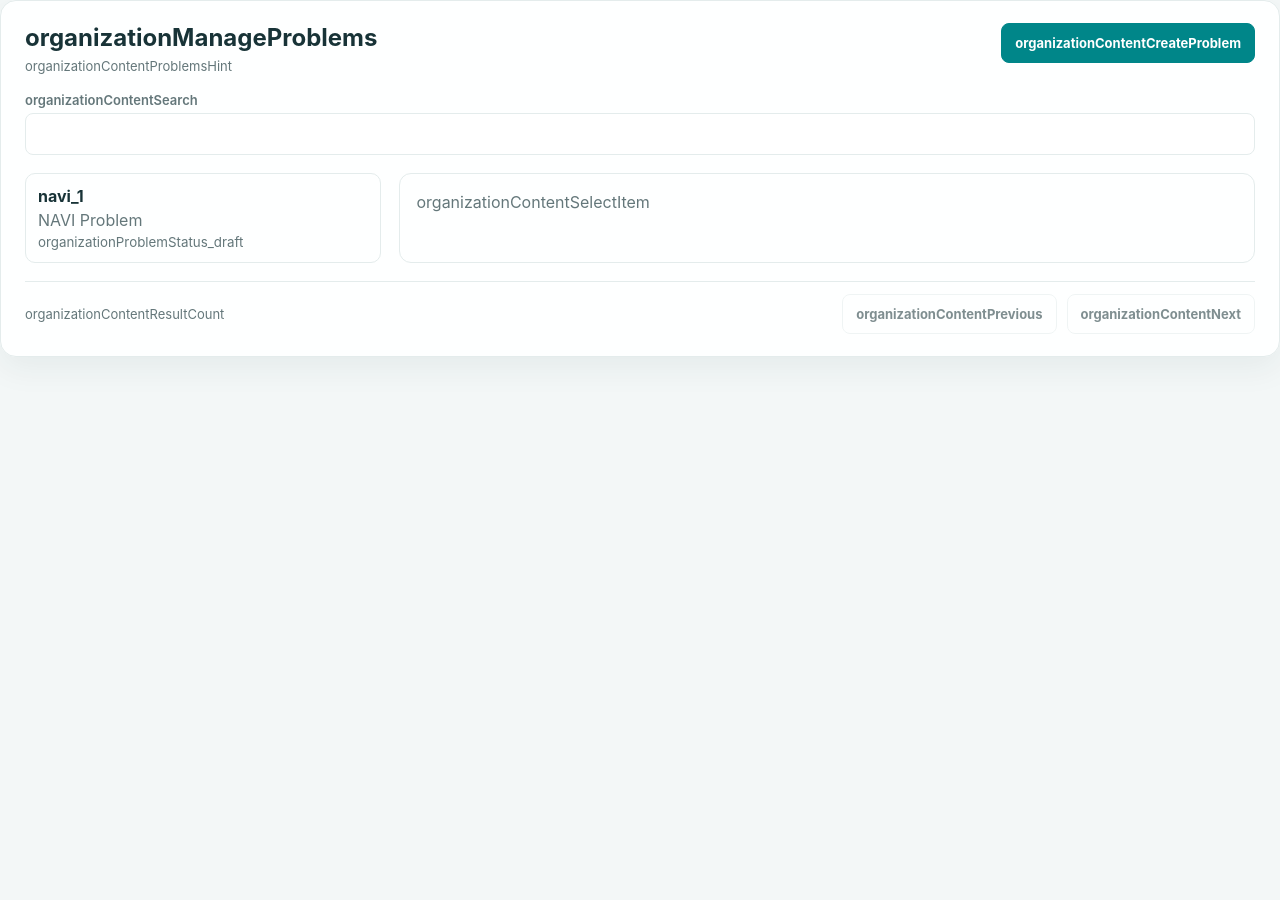
Test: OrganizationContentPanel create interactions › switches between problem detail, edit form, cancel, and create form
Click the button "navi_1 NAVI Problem organizationProblemStatus_draft".
click(61, 196)  # box [25,173,382,263]
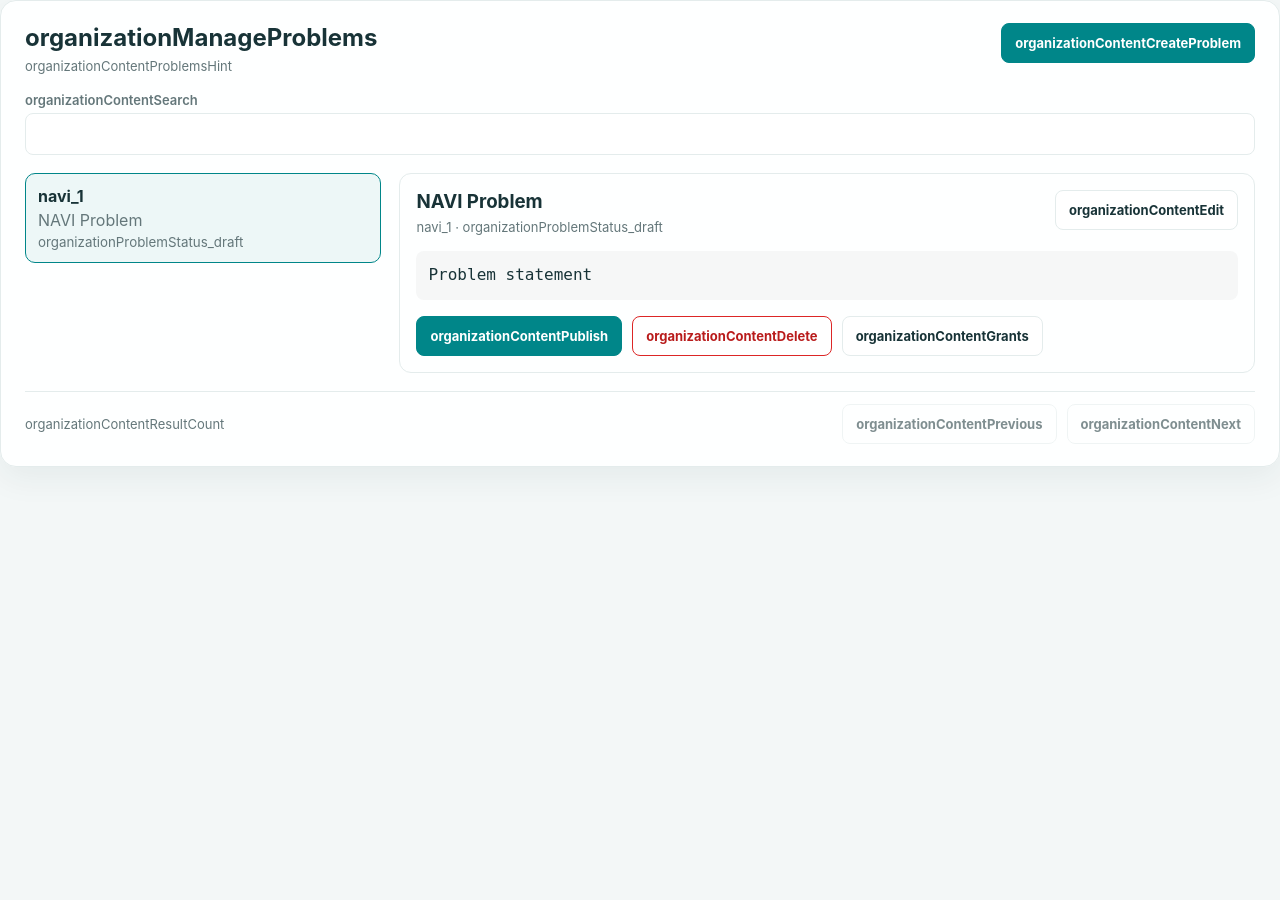
Result: the text "Problem statement" is shown at [416,251,1238,300]
Result: the button "organizationContentEdit" is shown
Click the button "organizationContentEdit".
click(1146, 210)  # box [1055,190,1238,230]
(page scrolled)
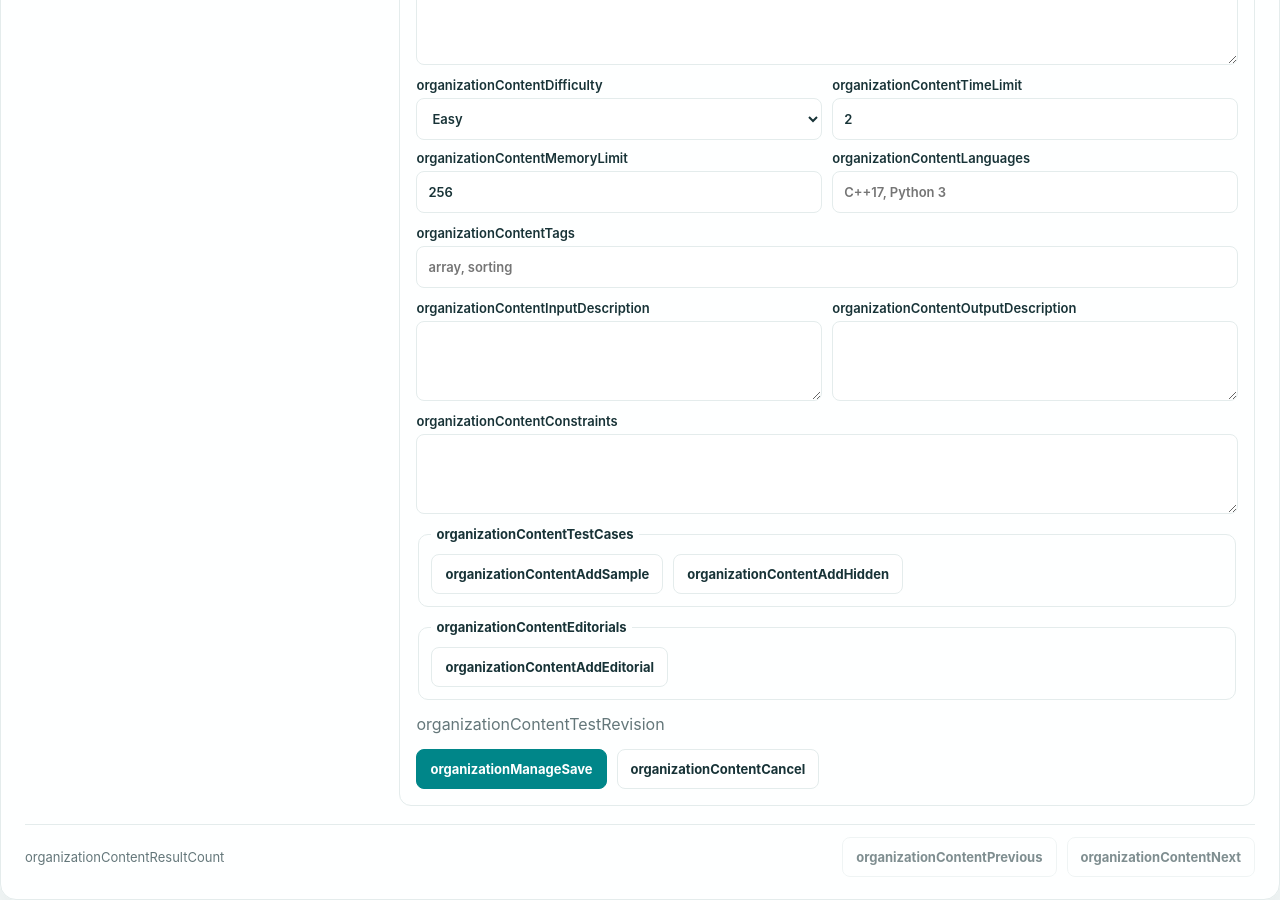
Result: the button "organizationContentCancel" is shown
Click the button "organizationContentCancel".
click(718, 769)  # box [616,749,819,789]
(page scrolled)
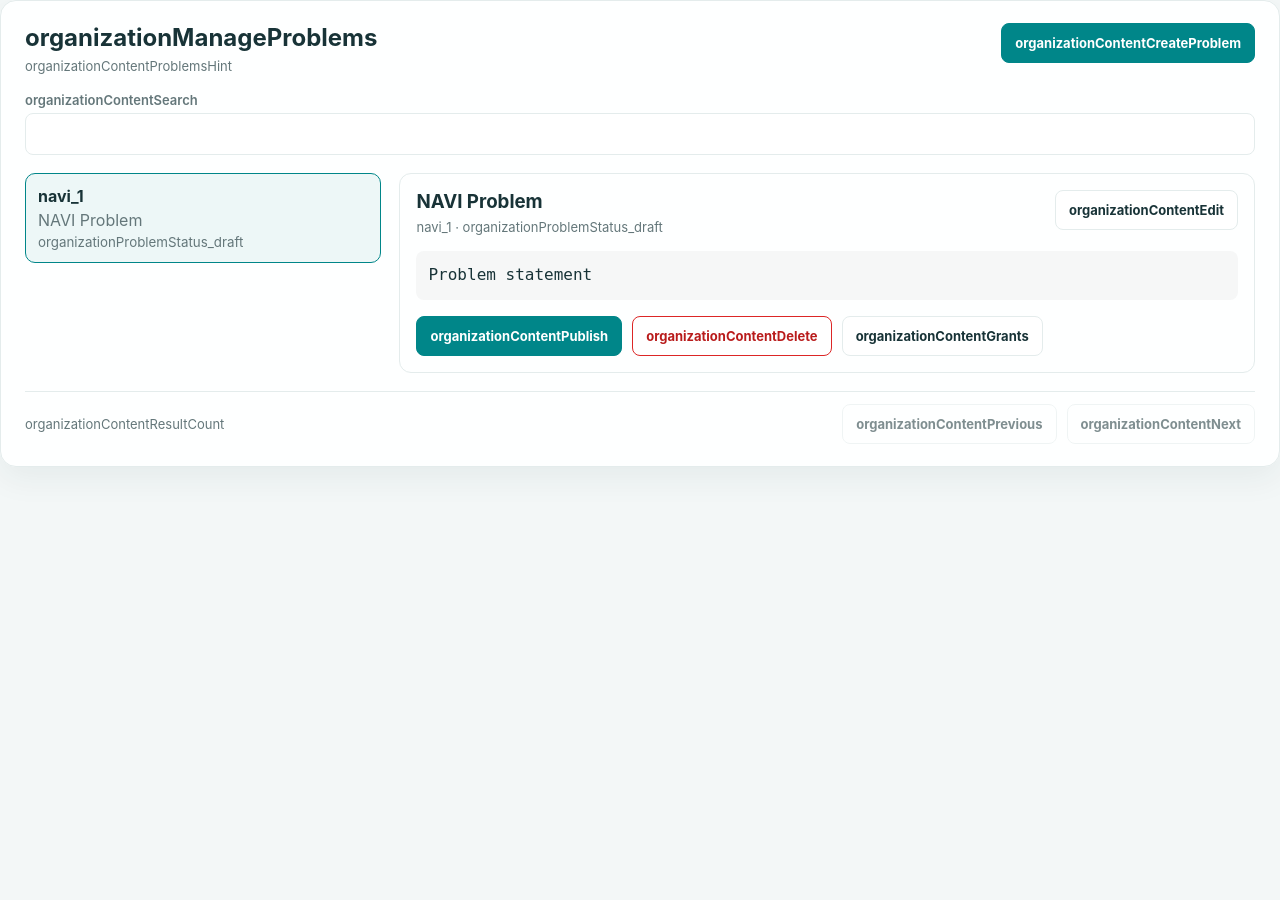
Result: the text "Problem statement" is shown at [416,251,1238,300]
Click the button "organizationContentCreateProblem".
click(1128, 43)  # box [1001,23,1255,63]
(page scrolled)
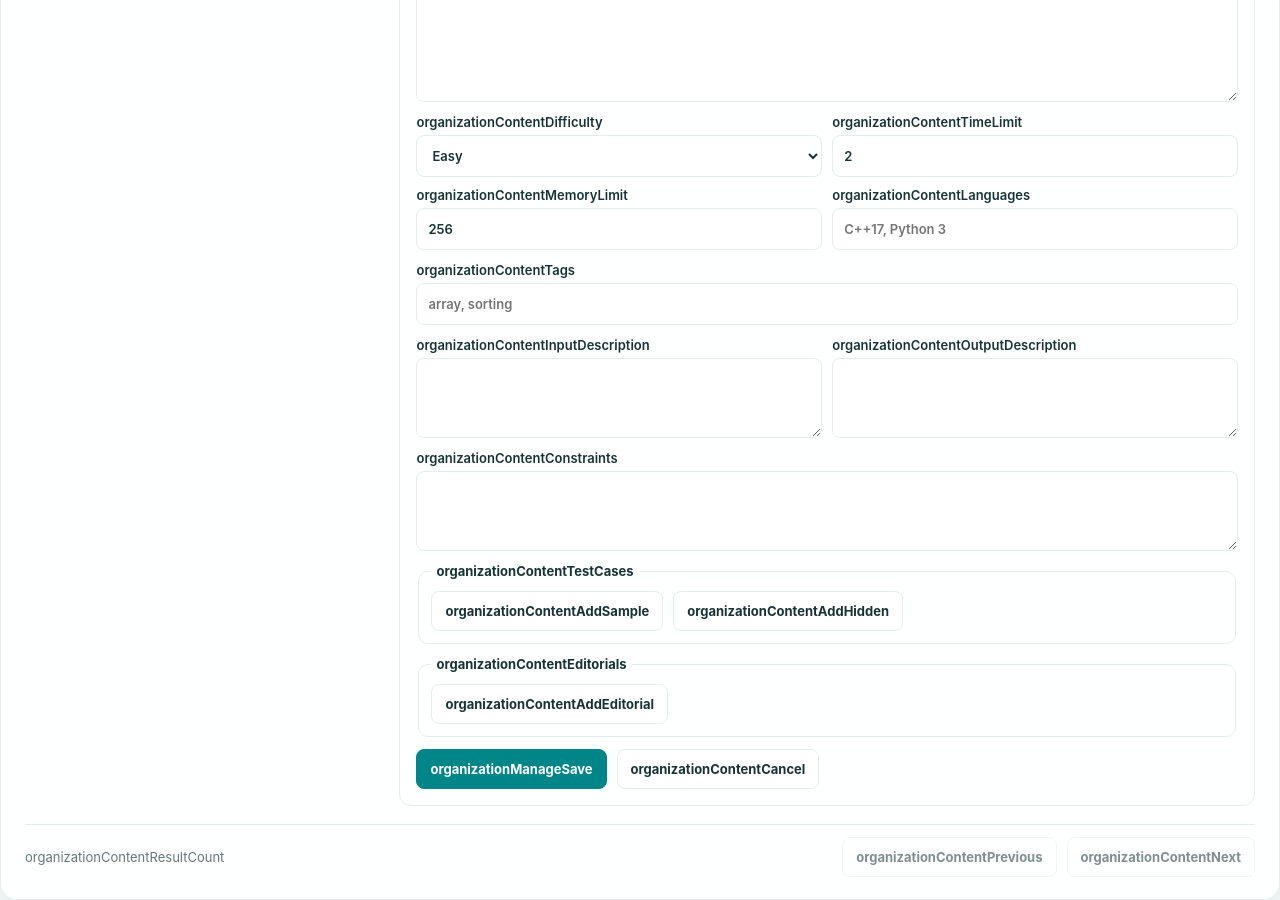
Result: the button "organizationContentCancel" is shown
Click the button "organizationContentCancel".
click(718, 769)  # box [616,749,819,789]
(page scrolled)
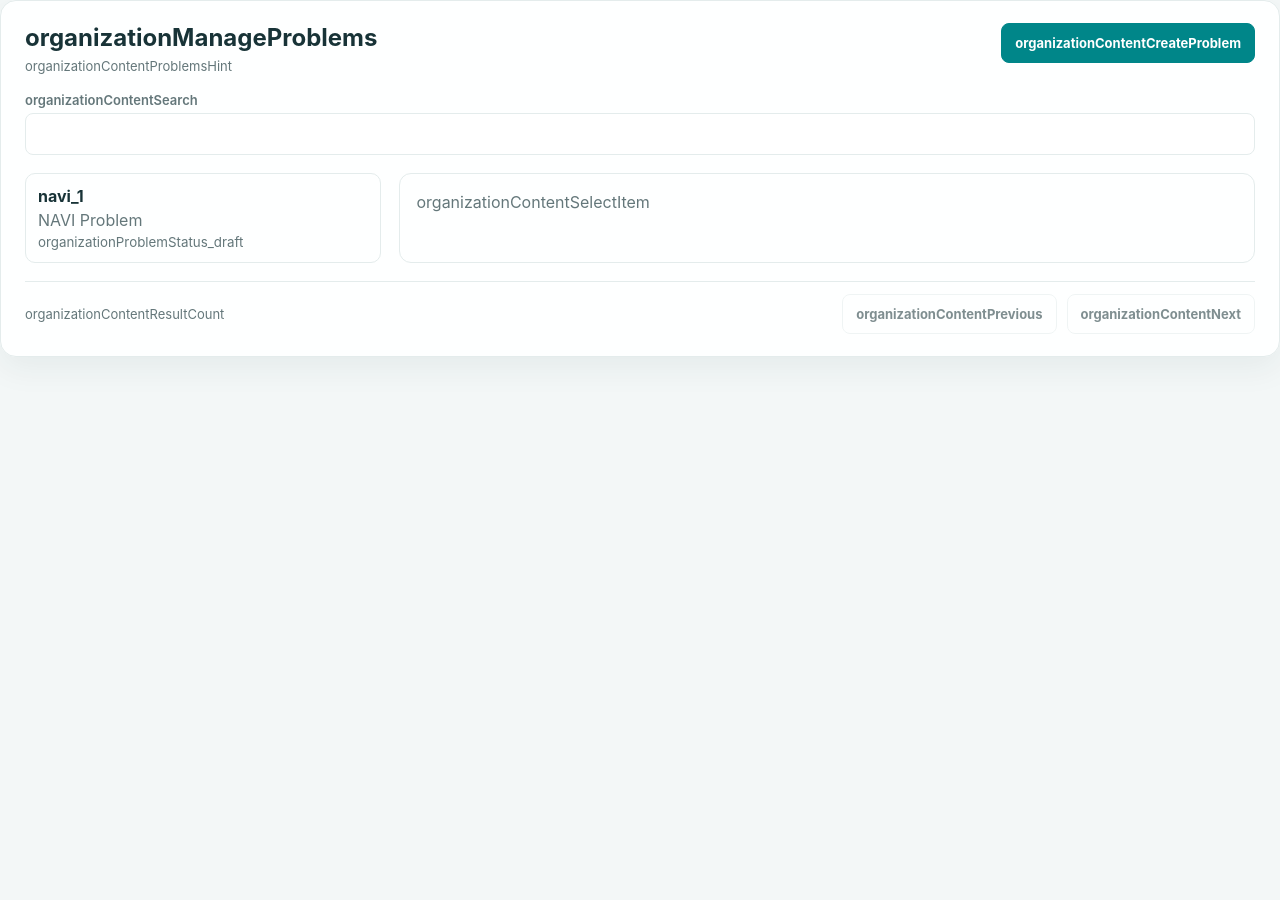
Click the button "navi_1 NAVI Problem organizationProblemStatus_draft".
click(61, 196)  # box [25,173,382,263]
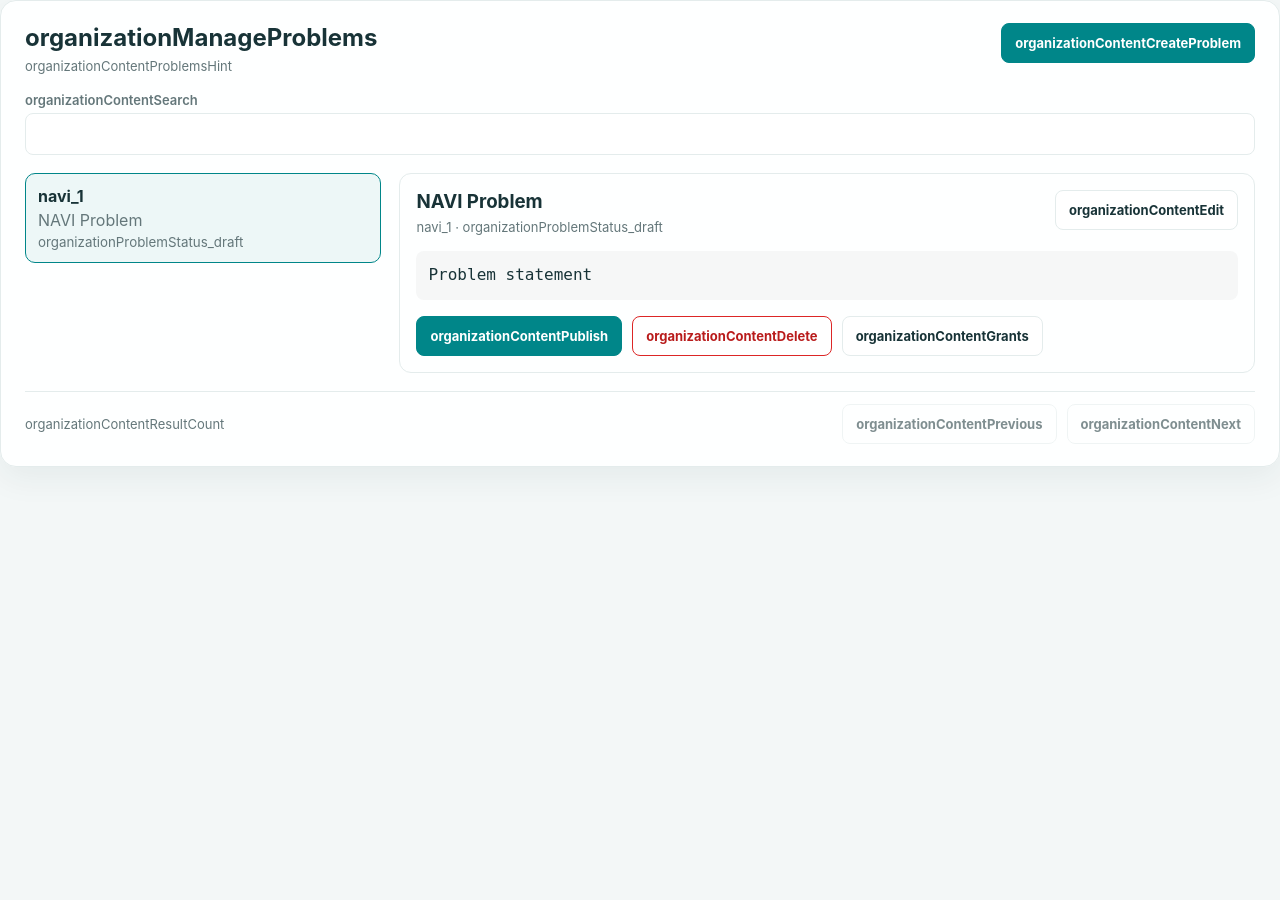
Result: the text "Problem statement" is shown at [416,251,1238,300]
